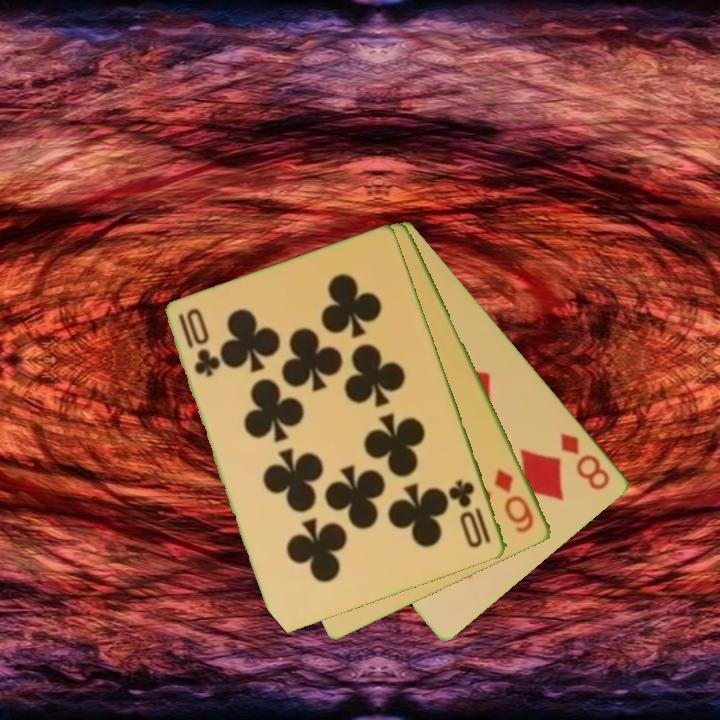10c: (446, 476, 495, 552), (175, 304, 221, 380)
6d: (491, 465, 537, 536)
8d: (557, 429, 614, 493)
